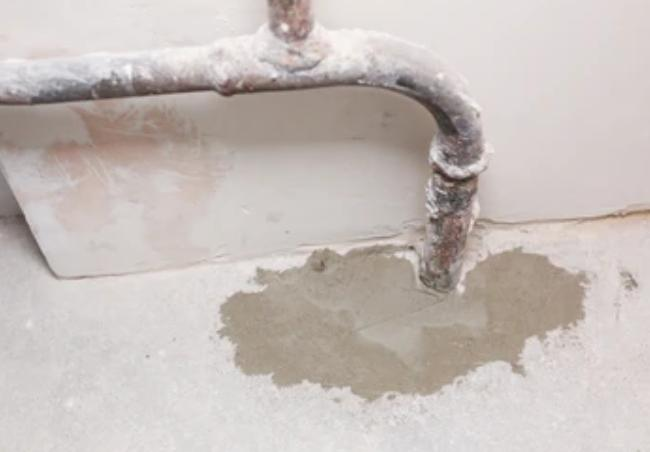water accumulation: (217, 243, 590, 405)
